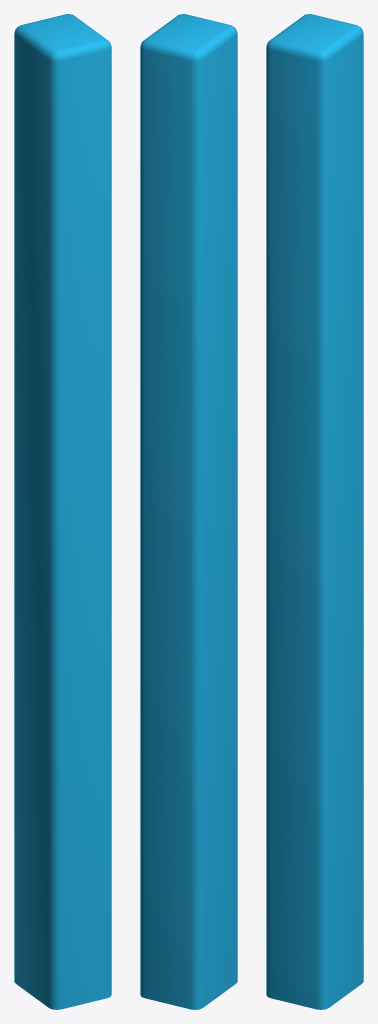
Rendered from water2.fbx.
3 views of the same model, side by side, from view 1: azimuth 30°, elevation 25°; view 2: azimuth 150°, elevation 25°; view 3: azimuth 330°, elevation 25° (orthographic).
Visible parts, largest first — view 1: waterfall.001; view 2: waterfall.001; view 3: waterfall.001.
Part boxes in pixels (x1,y1,x2,y2): waterfall.001: [14, 14, 111, 1009]; waterfall.001: [140, 14, 237, 1009]; waterfall.001: [266, 14, 363, 1009].
Size of the model in its own units: 100 by 1490 by 120.
